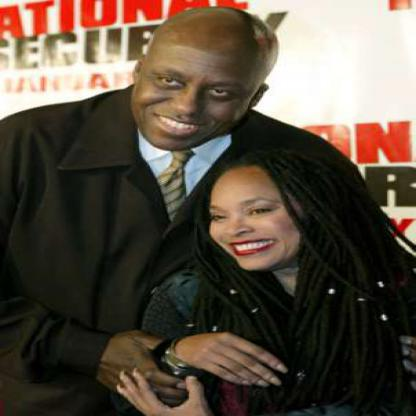face: (135, 22, 258, 155), (201, 161, 318, 275)
